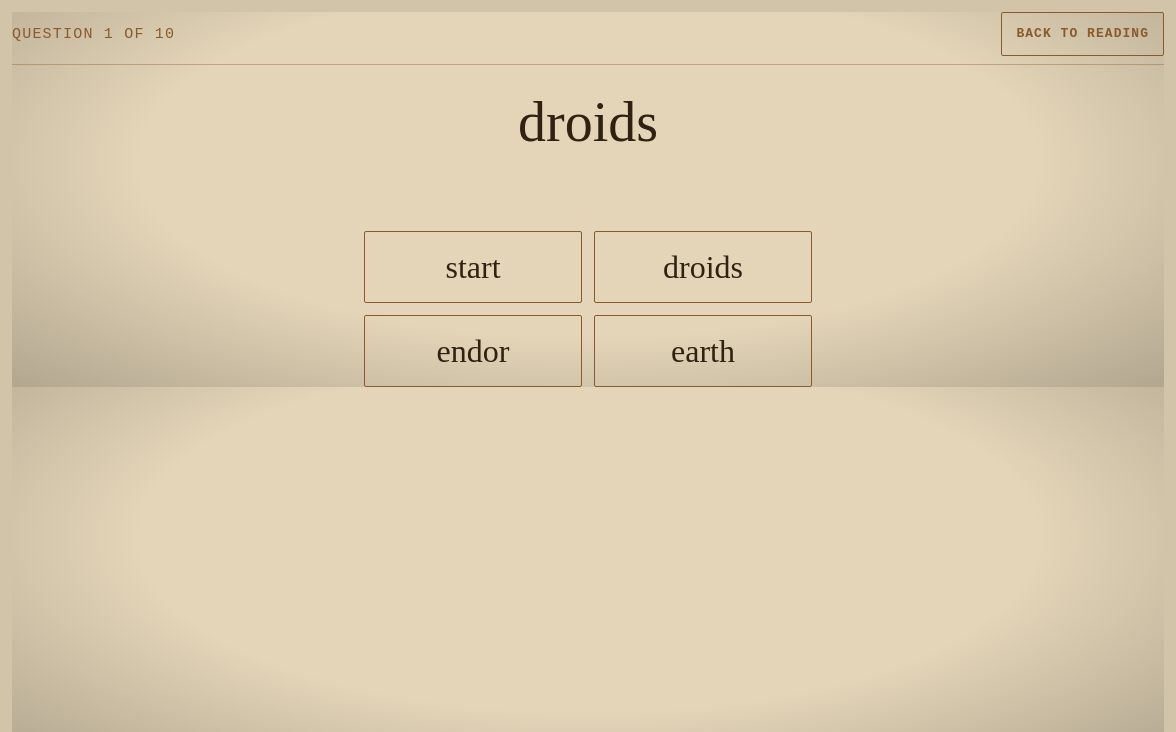
QuizScreen › timing › moves on by itself after a short pause
What coordinates should you click on to do the following:
click the button "droids"
I would click on:
 (703, 267)
Its box is [594, 231, 812, 303].
Wait 2000 ms
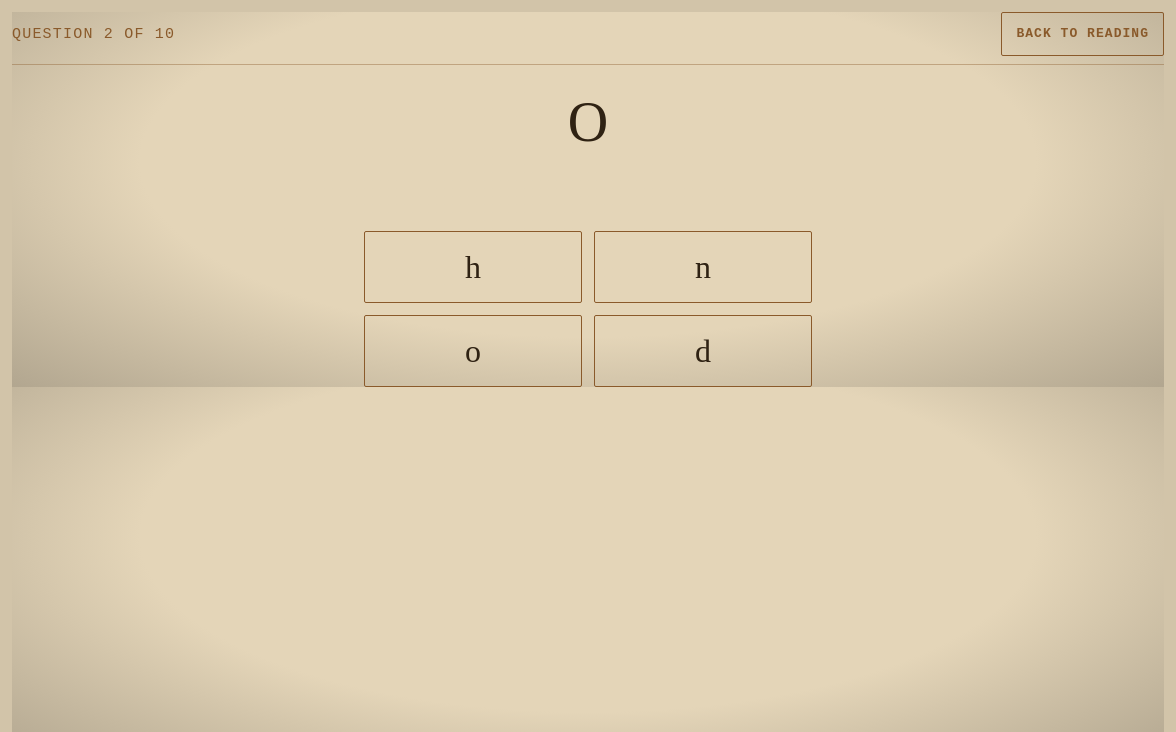
Now the text "Question 2 of 10" is shown, box [12, 24, 175, 44]
